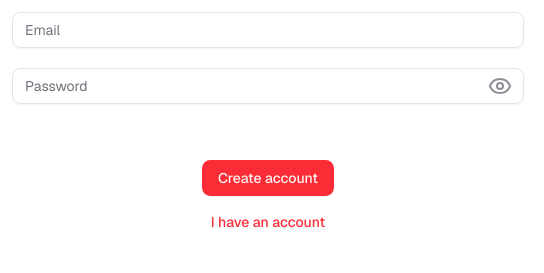
Test: SignupForm (unit) › shows 'Invalid email format' for incorrect email
Type "not-an-email" into the field with placeholder "Email".
click(268, 30); type("not-an-email")  # box [12, 12, 524, 48]
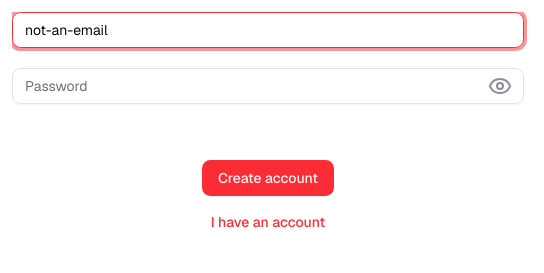
Type "abc123" into the password field with placeholder "Password".
click(268, 86); type("abc123")  # box [12, 68, 524, 104]
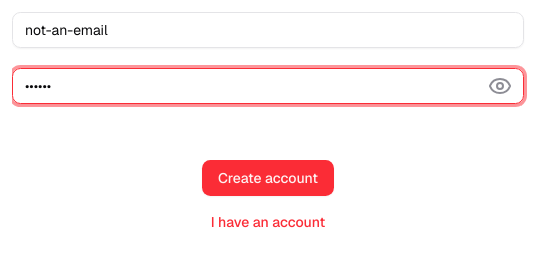
Click the button "Create account".
click(268, 178)  # box [202, 160, 334, 196]
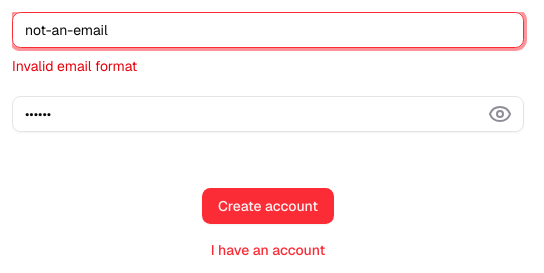
Check: the text "Invalid email format" is shown, box [12, 57, 137, 75]
